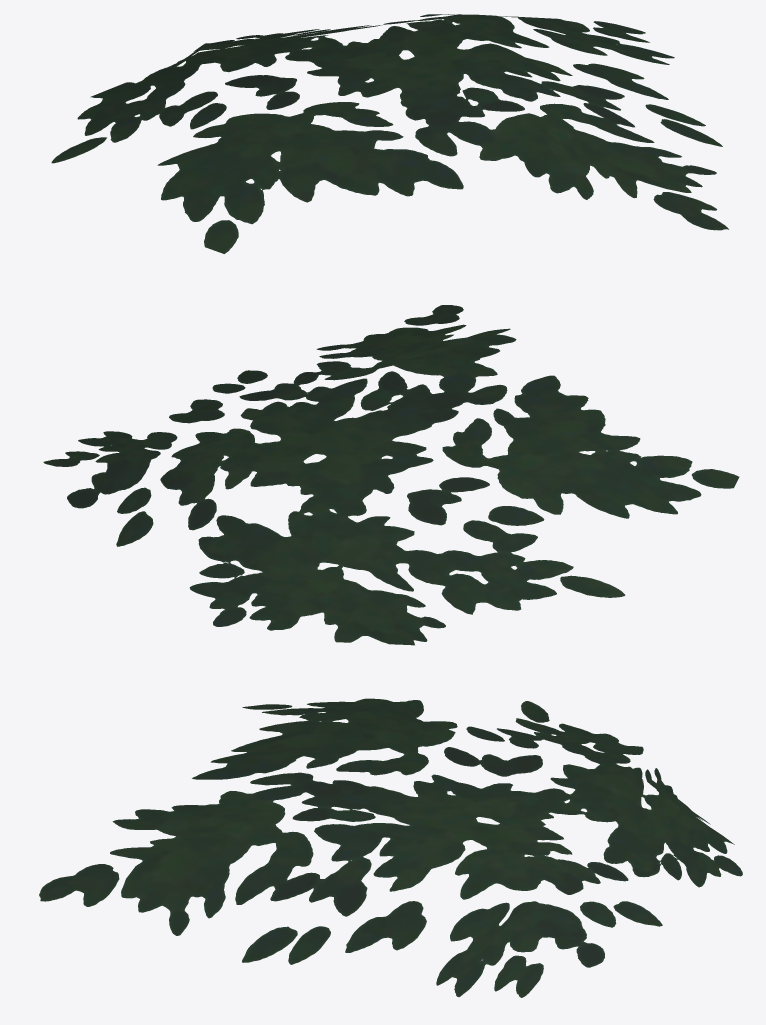
The model's file is cao3_light.fbx.
The picture shows the model from 3 angles, top to bottom: view 1: azimuth 30°, elevation 25°; view 2: azimuth 150°, elevation 25°; view 3: azimuth 270°, elevation 25°; orthographic projection.
Visible parts, largest first — view 1: cao3_light; view 2: cao3_light; view 3: cao3_light.
Boxes of the visible parts, <box> form: cao3_light: <box>51,14,728,253</box>; cao3_light: <box>43,305,739,645</box>; cao3_light: <box>39,698,742,997</box>.
Bounding box in the file's own units: 788 × 97.88 × 788.
